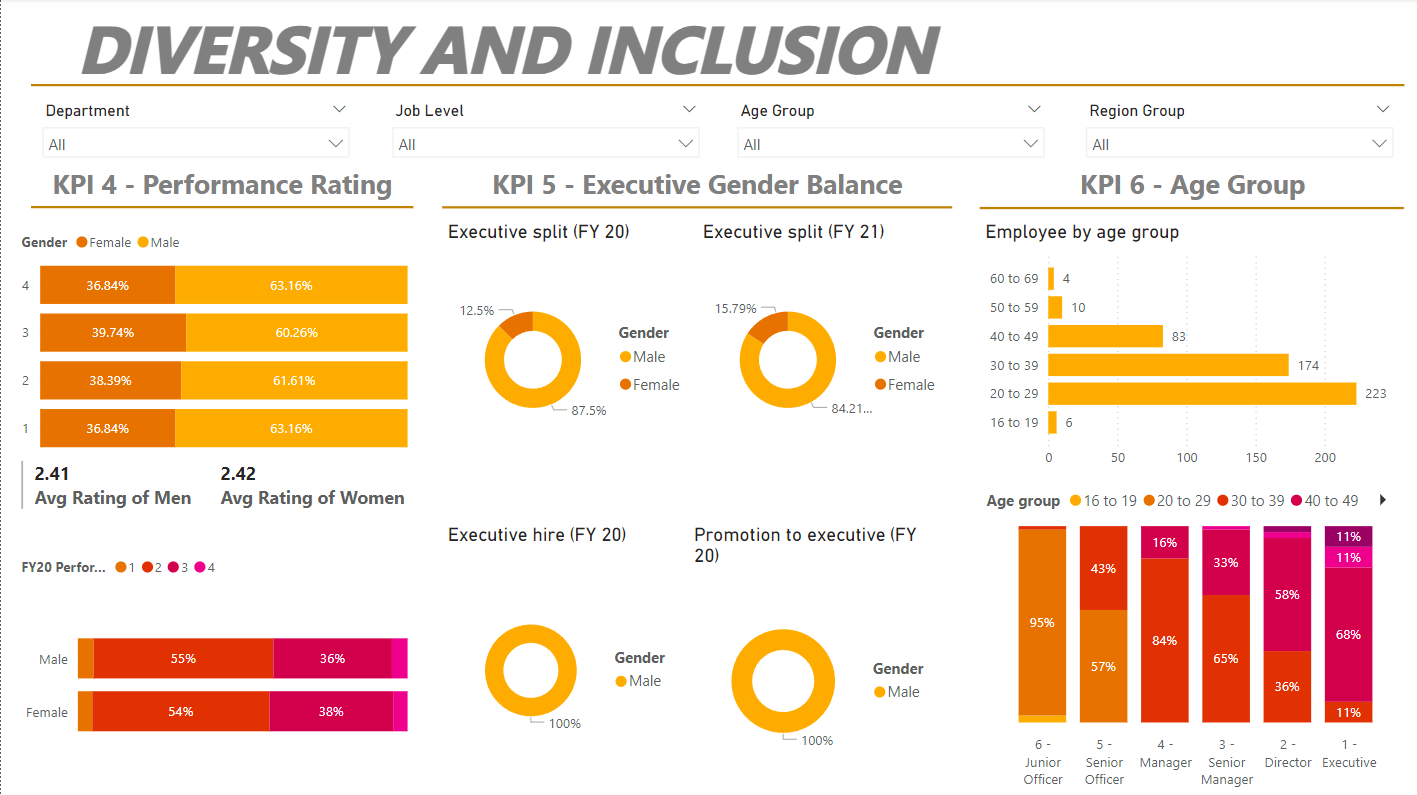

The dashboard page shown, as its layout file describes it:
{"tool":"powerbi","page":{"name":"Page 2","canvas":[1280,720],"ordinal":1},"visuals":[{"type":"slicer","fields":{"Values":["Pharma Group AG.Department @01.07.2020"]},"box":[26.9,88,297.1,58.7],"z":0},{"type":"slicer","fields":{"Values":["Pharma Group AG.Region group: nationality 1"]},"box":[968.5,88,297.1,58.7],"z":1},{"type":"slicer","fields":{"Values":["Pharma Group AG.Job Level after FY20 promotions"]},"box":[342.4,88,297.1,58.7],"z":2},{"type":"slicer","fields":{"Values":["Pharma Group AG.Age group"]},"box":[654.2,88,297.1,58.7],"z":3},{"type":"textbox","box":[26.9,0,856,88],"z":4},{"type":"shape","box":[26.9,68.5,1238.7,19.6],"z":5},{"type":"hundredPercentStackedBarChart","fields":{"Category":["Pharma Group AG.FY20 Performance Rating"],"Y":["CountNonNull(Pharma Group AG.Employee ID)"],"Series":["Pharma Group AG.Gender"]},"box":[13.5,200.5,358.3,217.7],"z":6},{"type":"hundredPercentStackedBarChart","fields":{"Category":["Pharma Group AG.Gender"],"Y":["CountNonNull(Pharma Group AG.Employee ID)"],"Series":["Pharma Group AG.FY20 Performance Rating"]},"box":[13.5,494,358.3,217.7],"z":7},{"type":"donutChart","title":"Executive split (FY 20)","fields":{"Category":["Pharma Group AG.Gender"],"Y":["CountNonNull(Pharma Group AG.Employee ID)"]},"box":[397.4,200.5,229.9,232.3],"z":8},{"type":"donutChart","title":"Executive split (FY 21)","fields":{"Category":["Pharma Group AG.Gender"],"Y":["CountNonNull(Pharma Group AG.Employee ID)"]},"box":[627.3,200.5,229.9,232.3],"z":9},{"type":"donutChart","title":"Executive hire (FY 20)","fields":{"Category":["Pharma Group AG.Gender"],"Y":["CountNonNull(Pharma Group AG.Employee ID)"]},"box":[397.4,473.2,226.2,247],"z":10},{"type":"donutChart","title":"Promotion to executive (FY 20)","fields":{"Category":["Pharma Group AG.Gender"],"Y":["CountNonNull(Pharma Group AG.Employee ID)"]},"box":[620,473.2,237.2,247],"z":11},{"type":"barChart","title":"Employee by age group","fields":{"Category":["Pharma Group AG.Age group"],"Y":["CountNonNull(Pharma Group AG.Employee ID)"]},"box":[882.9,200.5,382.7,232.3],"z":12},{"type":"hundredPercentStackedColumnChart","fields":{"Series":["Pharma Group AG.Age group"],"Category":["Pharma Group AG.Job Level after FY21 promotions"],"Y":["CountNonNull(Pharma Group AG.Employee ID)"]},"box":[884.1,432.9,381.5,287.4],"z":13},{"type":"textbox","box":[26.9,146.7,344.8,53.8],"z":14},{"type":"textbox","box":[397.4,146.7,459.8,53.8],"z":15},{"type":"textbox","box":[884.1,146.7,381.5,53.8],"z":16},{"type":"shape","box":[26.9,177.3,344.8,23.2],"z":17},{"type":"shape","box":[397.4,174.9,459.8,28.1],"z":18},{"type":"shape","box":[882.9,174.9,382.7,29.3],"z":19},{"type":"multiRowCard","fields":{"Values":["Pharma Group AG.Avg Male Rating","Pharma Group AG.Avg Female Rating"]},"box":[13.5,412.1,357.1,81.9],"z":20}]}

Visuals, with their boxes in screenshot pixels (x1, y1, x2, y2), scaled from the page's 1280x720 canvas onto the 1417x795 screenshot:
slicer - Pharma Group AG.Department @01.07.2020: 30:97:359:162
slicer - Pharma Group AG.Region group: nationality 1: 1072:97:1401:162
slicer - Pharma Group AG.Job Level after FY20 promotions: 379:97:708:162
slicer - Pharma Group AG.Age group: 724:97:1053:162
textbox: 30:0:977:97
shape: 30:76:1401:97
hundredPercentStackedBarChart - Pharma Group AG.FY20 Performance Rating x CountNonNull(Pharma Group AG.Employee ID): 15:221:412:462
hundredPercentStackedBarChart - Pharma Group AG.Gender x CountNonNull(Pharma Group AG.Employee ID): 15:545:412:786
"Executive split (FY 20)" donutChart: 440:221:694:478
"Executive split (FY 21)" donutChart: 694:221:949:478
"Executive hire (FY 20)" donutChart: 440:522:690:794
"Promotion to executive (FY 20)" donutChart: 686:522:949:794
"Employee by age group" barChart: 977:221:1401:478
hundredPercentStackedColumnChart - Pharma Group AG.Age group x Pharma Group AG.Job Level after FY21 promotions: 979:478:1401:794
textbox: 30:162:411:221
textbox: 440:162:949:221
textbox: 979:162:1401:221
shape: 30:196:411:221
shape: 440:193:949:224
shape: 977:193:1401:225
multiRowCard - Pharma Group AG.Avg Male Rating x Pharma Group AG.Avg Female Rating: 15:455:410:545
